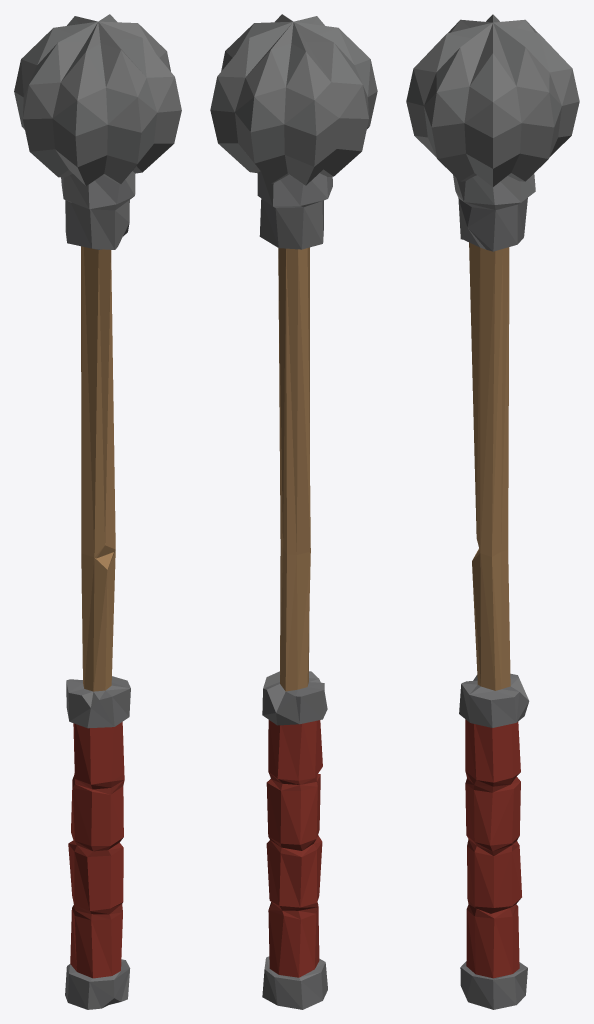
File: SFFA_Weapon_Mace_Iron_001.fbx
3 renders of one model, left to right at view 1: azimuth 30°, elevation 25°; view 2: azimuth 150°, elevation 25°; view 3: azimuth 270°, elevation 25°, orthographic.
Visible parts, largest first — view 1: SFFA_Weapon_Mace_Iron_001; view 2: SFFA_Weapon_Mace_Iron_001; view 3: SFFA_Weapon_Mace_Iron_001.
Boxes of the visible parts, box(x1,y1,x2,y2) form: SFFA_Weapon_Mace_Iron_001: box(14, 14, 181, 1009); SFFA_Weapon_Mace_Iron_001: box(210, 14, 377, 1009); SFFA_Weapon_Mace_Iron_001: box(406, 14, 579, 1009).
Size of the model in its own units: 9.54 by 59.34 by 9.54.
